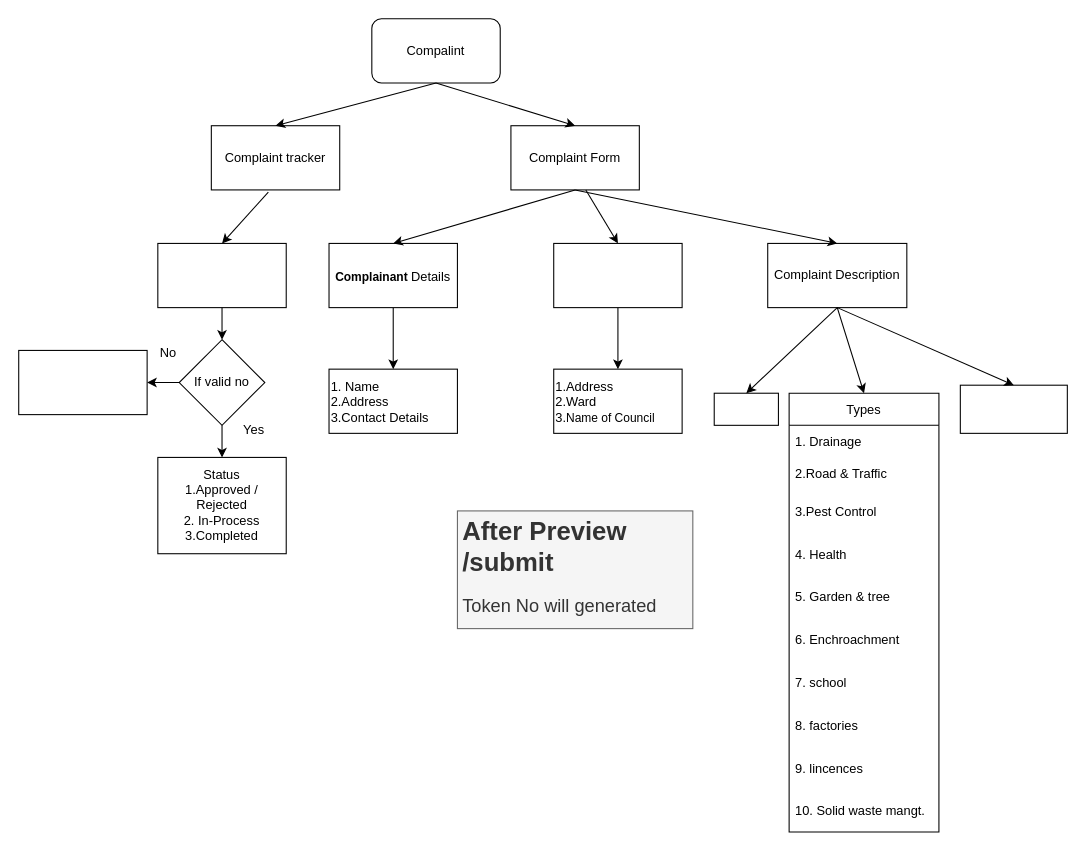
The diagram is 1086 pixels wide and 851 high, and some of its shapes have lost their labels. The box of each missing label's shape, as (x1, y1, x2, y2) in pixels:
Complaint Location: (553, 242, 682, 308)
Description in brief: (959, 384, 1067, 433)
Invalid Token no: (18, 349, 147, 415)
SubTypes: (713, 392, 778, 425)
Token no: (157, 242, 286, 308)
